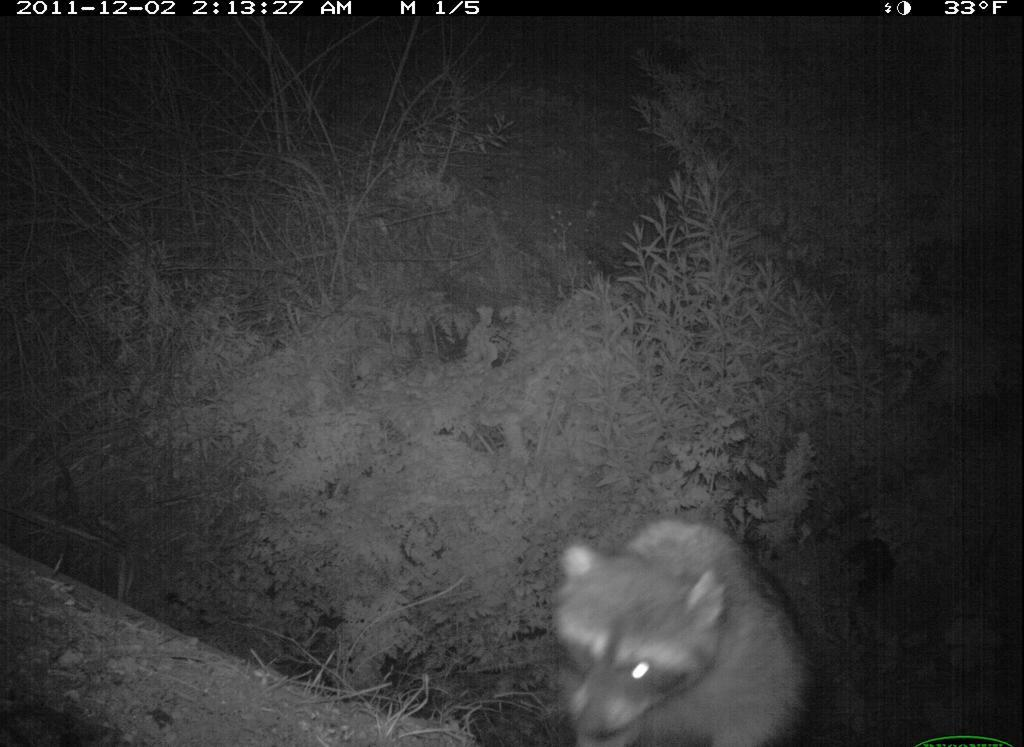raccoon: (547, 515, 811, 747)
